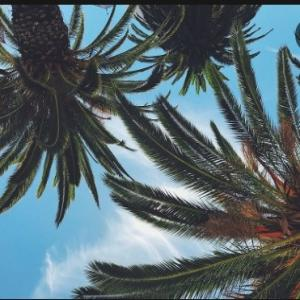palm tree: (71, 15, 299, 299)
